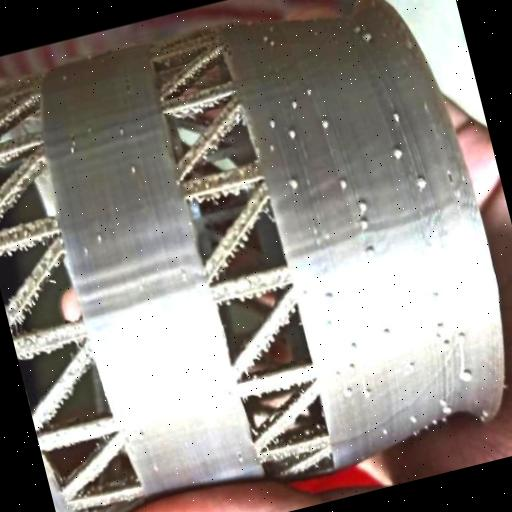blobs: (436, 394, 456, 419), (454, 364, 476, 386), (412, 170, 432, 194), (286, 173, 306, 195), (389, 142, 409, 164), (264, 112, 282, 136), (358, 27, 378, 48), (318, 284, 338, 304), (355, 196, 374, 214), (449, 328, 468, 346), (90, 230, 107, 250), (124, 161, 142, 179), (388, 106, 406, 124), (336, 174, 354, 192), (316, 115, 334, 133), (356, 212, 372, 232), (300, 84, 317, 102), (286, 124, 302, 143), (429, 284, 445, 303), (346, 338, 362, 356), (362, 242, 380, 258), (341, 380, 357, 397), (346, 356, 360, 372), (408, 410, 422, 426), (440, 334, 454, 350), (288, 99, 302, 111)
